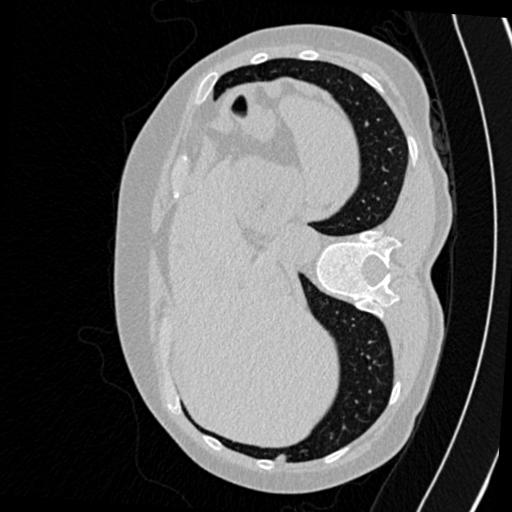nodule: (274, 452, 290, 468)
